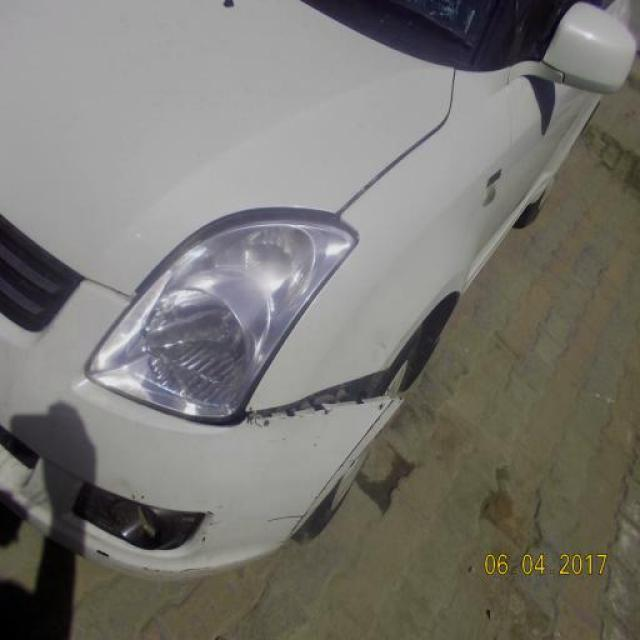Car-Damage: (279, 416, 388, 537), (238, 359, 404, 425)
